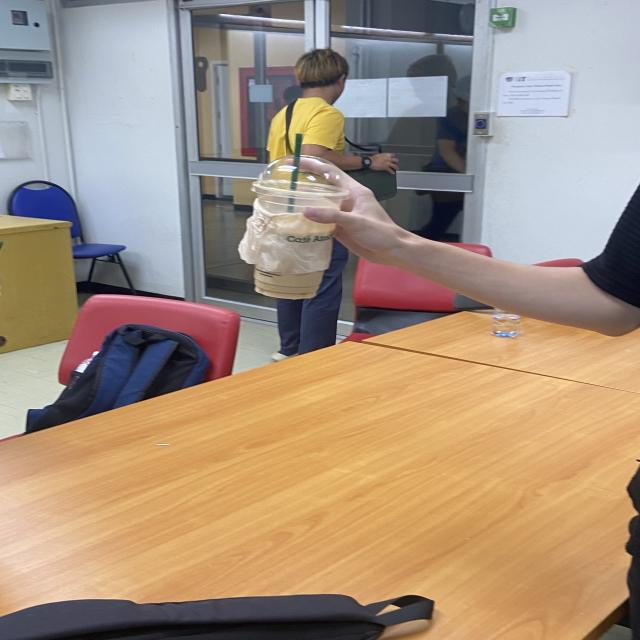cup: (248, 155, 354, 301)
